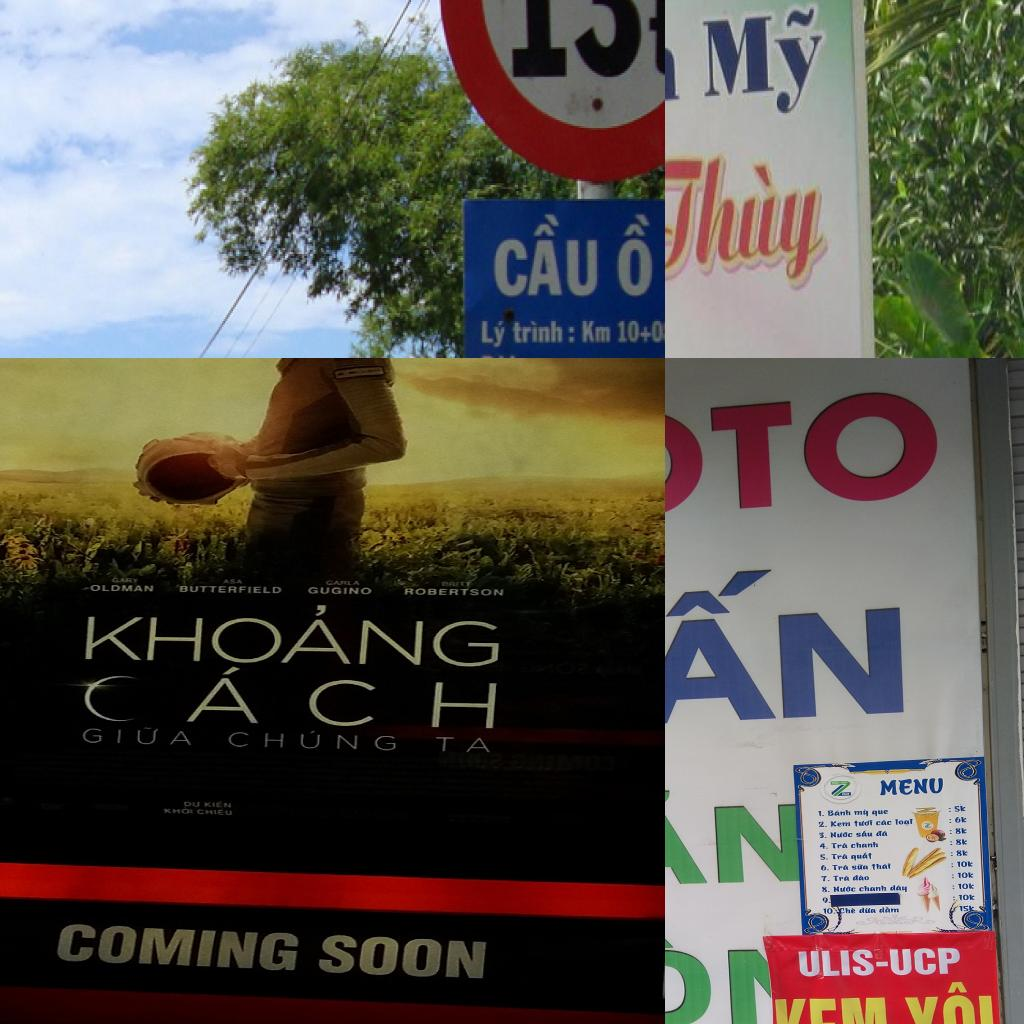text: (779, 649, 917, 891), (79, 599, 509, 671), (76, 664, 506, 732), (665, 147, 839, 297), (701, 0, 831, 124), (51, 918, 304, 976), (503, 0, 653, 86), (971, 714, 1024, 944), (488, 209, 606, 307), (305, 930, 499, 984), (665, 814, 712, 947), (224, 730, 400, 756), (611, 209, 658, 295), (75, 724, 201, 748), (997, 582, 1024, 651), (994, 527, 1024, 581), (512, 317, 565, 347), (649, 0, 665, 86), (177, 584, 286, 596), (768, 540, 794, 590), (402, 587, 508, 598), (478, 317, 512, 349), (580, 319, 612, 349), (614, 315, 643, 347), (85, 583, 158, 593), (304, 587, 374, 596), (652, 319, 665, 346), (773, 610, 793, 627), (196, 808, 238, 816), (322, 578, 363, 586), (480, 350, 519, 358), (640, 323, 654, 345), (440, 580, 475, 588), (161, 807, 196, 815), (204, 801, 236, 809), (867, 594, 881, 611), (110, 576, 141, 583), (220, 577, 247, 585), (912, 606, 922, 624), (878, 518, 888, 536), (181, 800, 203, 808), (854, 589, 862, 611), (912, 583, 920, 605), (811, 610, 820, 629), (908, 518, 918, 535), (910, 568, 922, 582), (894, 518, 903, 536), (823, 563, 833, 578), (882, 580, 892, 595), (825, 610, 834, 626), (840, 609, 848, 627), (924, 517, 932, 535), (824, 594, 834, 608), (804, 524, 814, 538), (820, 523, 830, 537), (835, 523, 845, 537), (864, 522, 874, 536), (940, 574, 949, 589), (810, 597, 821, 609), (811, 582, 821, 595), (838, 594, 848, 607), (808, 546, 816, 562), (883, 597, 892, 611), (938, 518, 948, 530), (898, 611, 907, 624), (855, 612, 863, 626), (870, 612, 878, 626), (898, 596, 906, 610), (942, 606, 950, 620), (942, 591, 950, 605), (850, 523, 858, 537), (884, 612, 892, 625), (942, 621, 951, 632), (824, 580, 832, 592), (838, 582, 847, 592), (826, 628, 835, 636), (841, 628, 849, 636), (884, 627, 893, 634), (898, 626, 907, 633), (913, 626, 922, 633), (855, 628, 864, 634), (812, 630, 820, 636), (870, 628, 878, 634), (928, 626, 936, 632), (828, 550, 836, 555), (788, 611, 793, 618)
